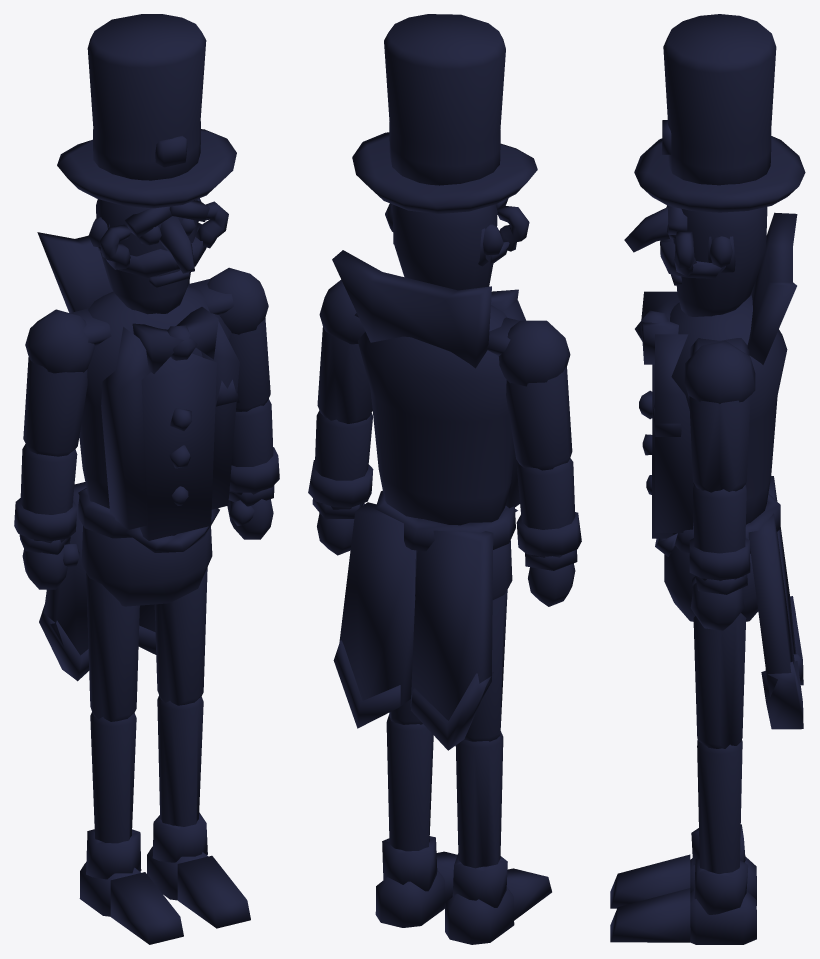
The model's file is Hoardsworth_Outline.fbx.
The picture shows the model from 3 angles, left to right: view 1: azimuth 30°, elevation 25°; view 2: azimuth 150°, elevation 25°; view 3: azimuth 270°, elevation 25°; orthographic projection. The views are drawn at different scales.
Visible parts, largest first — view 1: Hoardsworth_UpperTorso_Outline, Hoardsworth_Hat_Outline, Hoardsworth_LowerTorso_Outline, Hoardsworth_Head_Outline, Hoardsworth_RightUpperArm_Outline, Hoardsworth_RightFoot_Outline, Hoardsworth_LeftFoot_Outline, Hoardsworth_RightUpperLeg_Outline, Hoardsworth_RightLowerArm_Outline, Hoardsworth_LeftUpperLeg_Outline, Hoardsworth_LeftLowerLeg_Outline, Hoardsworth_RightLowerLeg_Outline (+4 smaller); view 2: Hoardsworth_UpperTorso_Outline, Hoardsworth_LowerTorso_Outline, Hoardsworth_Hat_Outline, Hoardsworth_Head_Outline, Hoardsworth_RightUpperArm_Outline, Hoardsworth_RightFoot_Outline, Hoardsworth_RightLowerArm_Outline, Hoardsworth_LeftUpperArm_Outline, Hoardsworth_RightLowerLeg_Outline, Hoardsworth_LeftLowerLeg_Outline, Hoardsworth_LeftLowerArm_Outline, Hoardsworth_LeftFoot_Outline (+3 smaller); view 3: Hoardsworth_Hat_Outline, Hoardsworth_UpperTorso_Outline, Hoardsworth_LowerTorso_Outline, Hoardsworth_Head_Outline, Hoardsworth_LeftUpperArm_Outline, Hoardsworth_LeftFoot_Outline, Hoardsworth_LeftUpperLeg_Outline, Hoardsworth_LeftLowerArm_Outline, Hoardsworth_LeftLowerLeg_Outline, Hoardsworth_RightFoot_Outline, Hoardsworth_LeftHand_Outline.
Boxes of the visible parts, bbox=[...] form: Hoardsworth_UpperTorso_Outline: bbox=[37, 232, 239, 540]; Hoardsworth_Hat_Outline: bbox=[57, 14, 236, 208]; Hoardsworth_LowerTorso_Outline: bbox=[39, 482, 219, 681]; Hoardsworth_Head_Outline: bbox=[88, 198, 228, 314]; Hoardsworth_RightUpperArm_Outline: bbox=[23, 309, 95, 456]; Hoardsworth_RightFoot_Outline: bbox=[79, 829, 183, 944]; Hoardsworth_LeftFoot_Outline: bbox=[147, 812, 250, 928]; Hoardsworth_RightUpperLeg_Outline: bbox=[86, 573, 139, 721]; Hoardsworth_RightLowerArm_Outline: bbox=[14, 443, 77, 554]; Hoardsworth_LeftUpperLeg_Outline: bbox=[154, 567, 207, 705]; Hoardsworth_LeftLowerLeg_Outline: bbox=[157, 695, 203, 826]; Hoardsworth_RightLowerLeg_Outline: bbox=[90, 712, 136, 843]; Hoardsworth_UpperTorso_Outline: bbox=[332, 250, 525, 525]; Hoardsworth_LowerTorso_Outline: bbox=[333, 490, 517, 750]; Hoardsworth_Hat_Outline: bbox=[352, 14, 537, 213]; Hoardsworth_Head_Outline: bbox=[385, 198, 529, 290]; Hoardsworth_RightUpperArm_Outline: bbox=[498, 320, 572, 470]; Hoardsworth_RightFoot_Outline: bbox=[445, 853, 551, 944]; Hoardsworth_RightLowerArm_Outline: bbox=[516, 458, 581, 570]; Hoardsworth_LeftUpperArm_Outline: bbox=[317, 280, 372, 423]; Hoardsworth_RightLowerLeg_Outline: bbox=[455, 731, 503, 868]; Hoardsworth_LeftLowerLeg_Outline: bbox=[386, 714, 433, 851]; Hoardsworth_LeftLowerArm_Outline: bbox=[308, 410, 373, 519]; Hoardsworth_LeftFoot_Outline: bbox=[375, 836, 457, 927]; Hoardsworth_Hat_Outline: bbox=[634, 14, 805, 212]; Hoardsworth_UpperTorso_Outline: bbox=[635, 212, 797, 538]; Hoardsworth_LowerTorso_Outline: bbox=[655, 476, 803, 729]; Hoardsworth_Head_Outline: bbox=[624, 205, 767, 316]; Hoardsworth_LeftUpperArm_Outline: bbox=[684, 340, 755, 492]; Hoardsworth_LeftFoot_Outline: bbox=[610, 858, 756, 944]; Hoardsworth_LeftUpperLeg_Outline: bbox=[693, 613, 746, 748]; Hoardsworth_LeftLowerArm_Outline: bbox=[689, 484, 750, 594]; Hoardsworth_LeftLowerLeg_Outline: bbox=[697, 740, 742, 873]; Hoardsworth_RightFoot_Outline: bbox=[610, 824, 756, 908]; Hoardsworth_LeftHand_Outline: bbox=[690, 576, 744, 630].
Bounding box in the file's own units: 2.77 × 8.83 × 1.77.
1 material, 1 textured.
